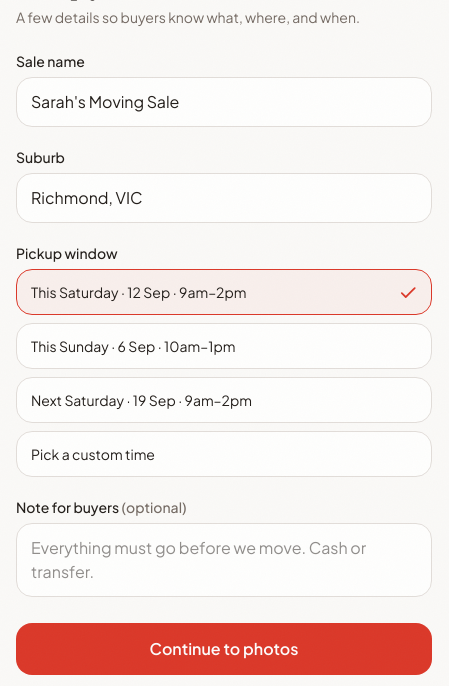
Test: resuming a draft saved before the picker existed › does not accept a legacy free-text suburb as an already-made pick
This screenshot has width=449, height=686.
(page scrolled)
Expected: the dropdown showing "Richmond, VIC" is shown, [16,173,432,223]
// ...but it is not a confirmed choice, so submitting is refused.
What coordinates should you click on to do the following:
click the button "Continue to photos"
I would click on:
 (224, 649)
Its box is [16,623,432,675].
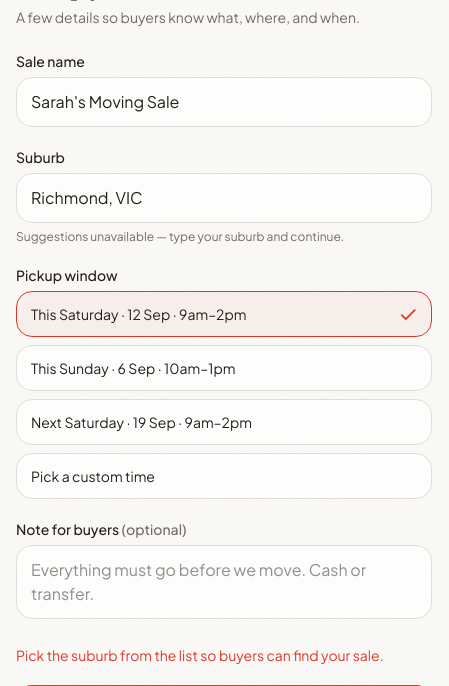
Now the text "Pick the suburb from the list so buyers can find your sale." is shown, box [16,645,432,665]
